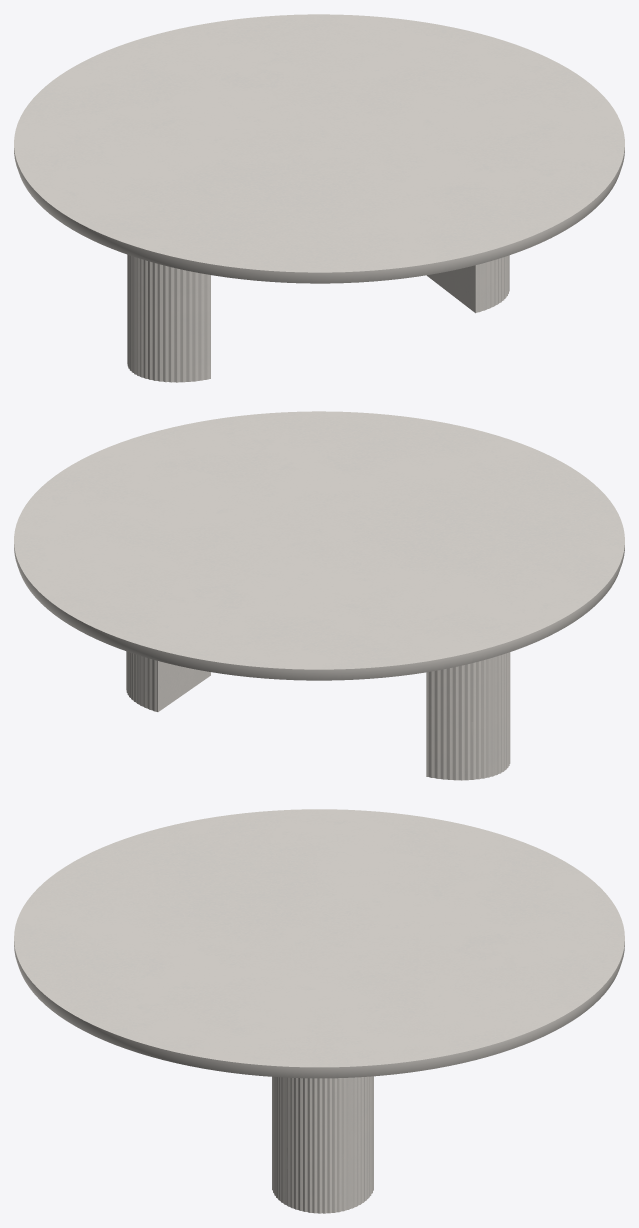
The model's file is pearlwhite_round_facet_flute.glb.
3 views of the same model, one above another, from view 1: azimuth 30°, elevation 25°; view 2: azimuth 150°, elevation 25°; view 3: azimuth 270°, elevation 25° (orthographic).
Parts seen in each view (by area): view 1: tabletop_round_facet.010, tableleg_flute.030; view 2: tabletop_round_facet.010, tableleg_flute.030; view 3: tabletop_round_facet.010, tableleg_flute.030.
Boxes of the visible parts, <box> form: tabletop_round_facet.010: <box>14,14,624,283</box>; tableleg_flute.030: <box>127,254,509,382</box>; tabletop_round_facet.010: <box>14,411,624,680</box>; tableleg_flute.030: <box>126,651,510,780</box>; tabletop_round_facet.010: <box>14,809,624,1078</box>; tableleg_flute.030: <box>272,1076,373,1213</box>.
Size of the model in its own units: 7.5 by 2.5 by 7.5.
1 material, 1 textured.
